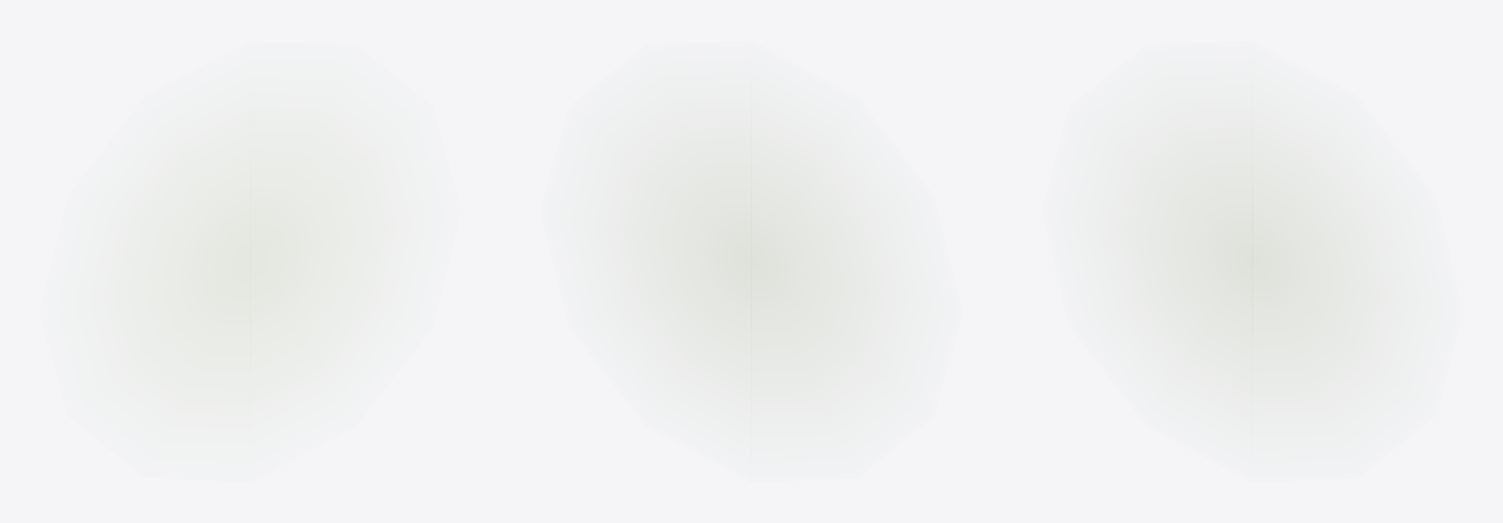
The model's file is mote.glb.
3 views of the same model, side by side, from view 1: azimuth 30°, elevation 25°; view 2: azimuth 150°, elevation 25°; view 3: azimuth 330°, elevation 25° (orthographic).
Size of the model in its own units: 2 by 2 by 0.
